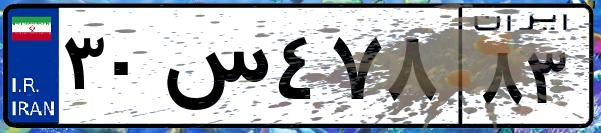0: (110, 28, 158, 98)
3: (57, 26, 110, 100), (525, 38, 570, 115)
4: (270, 28, 330, 110)
7: (330, 28, 385, 110)
8: (385, 28, 445, 110), (475, 38, 525, 113)
س: (158, 20, 270, 120)
